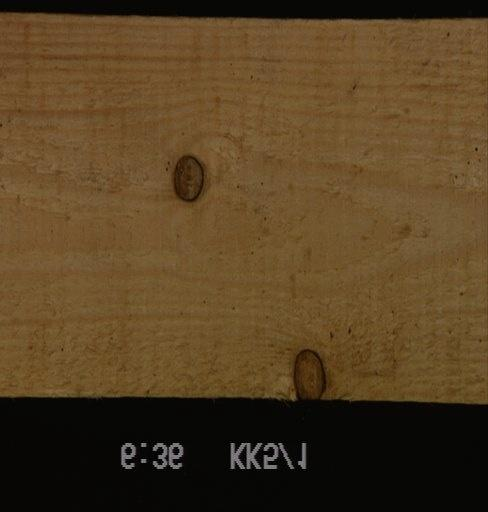dry_knot: (172, 153, 204, 201)
edge_knot: (290, 348, 326, 400)
